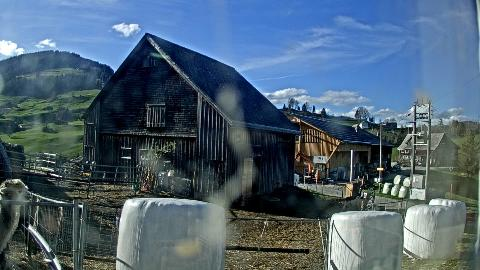car: (391, 165, 401, 173), (418, 160, 426, 166)
sheep: (0, 179, 32, 263), (342, 187, 374, 213)
